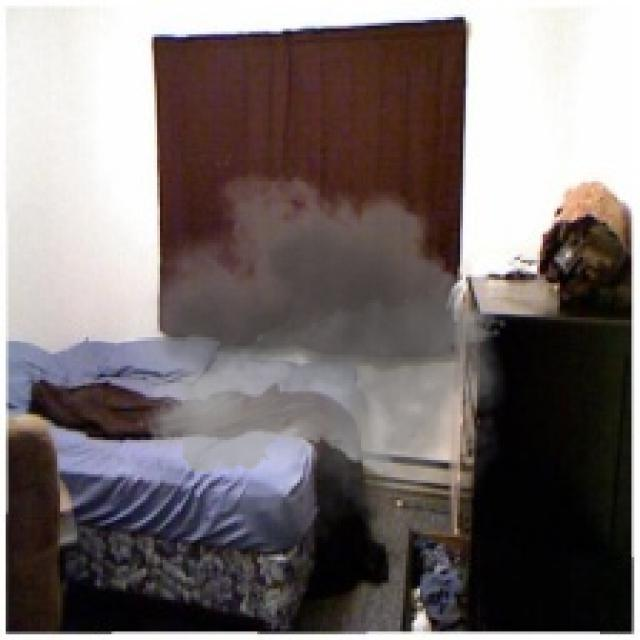smoke: (123, 155, 520, 554)
